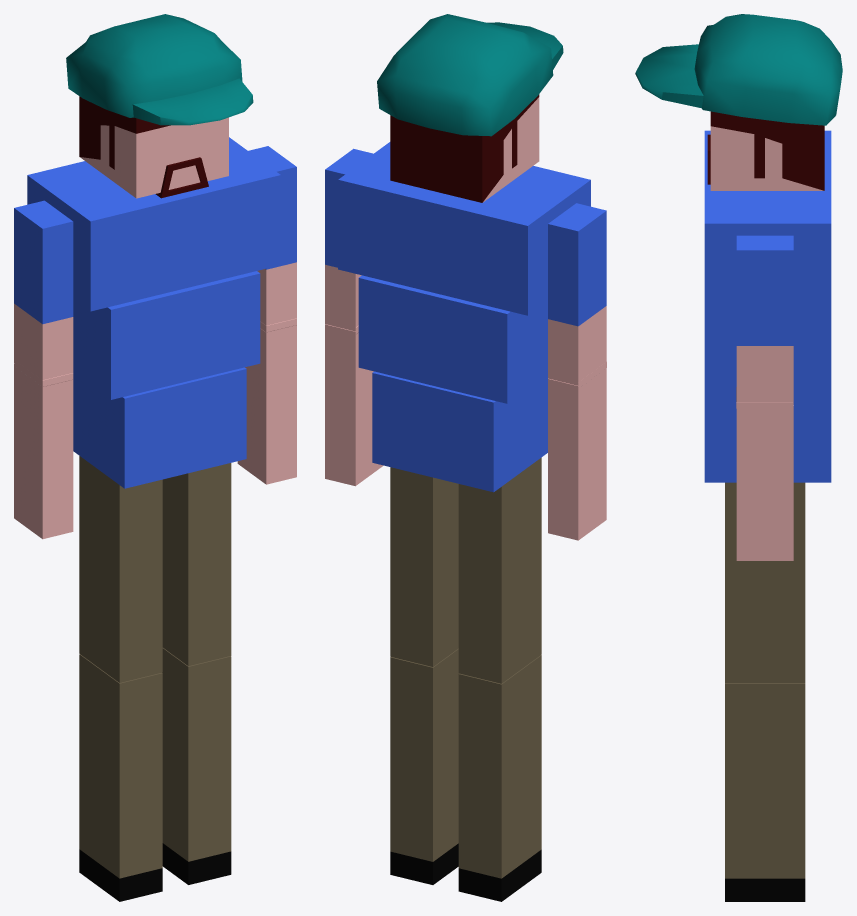
Rendered from Humanoid_v01.fbx.
The picture shows the model from 3 angles, left to right: view 1: azimuth 30°, elevation 25°; view 2: azimuth 150°, elevation 25°; view 3: azimuth 270°, elevation 25°; orthographic projection.
Parts seen in each view (by area): view 1: Head, Chest, L_Calf, Abs, L_Thigh, Hips, R_Calf, R_Thigh, L_UpperArm, L_Forearm, R_ForeArm, R_UpperArm; view 2: Head, Chest, L_Calf, Abs, L_Thigh, Hips, R_Calf, R_Thigh, L_UpperArm, L_Forearm, R_ForeArm, R_UpperArm; view 3: Head, R_Calf, Chest, R_Thigh, R_UpperArm, R_ForeArm, Hips, Abs.
Boxes of the visible parts, x1,y1,x2,y2 form: Head: [66, 14, 253, 198]; Chest: [27, 137, 280, 311]; L_Calf: [79, 654, 162, 901]; Abs: [73, 271, 260, 399]; L_Thigh: [79, 456, 162, 682]; Hips: [73, 367, 246, 488]; R_Calf: [162, 648, 231, 884]; R_Thigh: [162, 463, 231, 666]; L_UpperArm: [14, 200, 73, 380]; L_Forearm: [14, 360, 73, 539]; R_ForeArm: [237, 318, 296, 484]; R_UpperArm: [248, 146, 296, 325]; Head: [377, 14, 563, 202]; Chest: [338, 142, 590, 315]; L_Calf: [458, 655, 541, 901]; Abs: [358, 275, 547, 403]; L_Thigh: [458, 457, 541, 683]; Hips: [372, 371, 547, 492]; R_Calf: [390, 648, 458, 884]; R_Thigh: [390, 467, 458, 666]; L_UpperArm: [548, 203, 606, 385]; L_Forearm: [548, 362, 606, 540]; R_ForeArm: [325, 324, 383, 486]; R_UpperArm: [325, 148, 373, 331]; Head: [635, 14, 842, 190]; R_Calf: [725, 683, 805, 901]; Chest: [704, 130, 831, 313]; R_Thigh: [725, 482, 805, 682]; R_UpperArm: [736, 235, 793, 405]; R_ForeArm: [736, 387, 793, 560]; Hips: [704, 397, 831, 482]; Abs: [704, 313, 831, 396].
Size of the model in its own units: 199 by 635 by 141.
